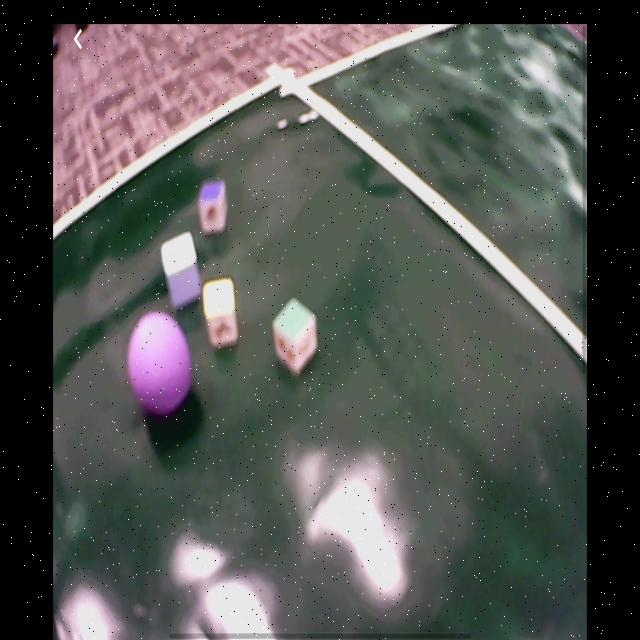ball: (127, 311, 194, 415)
